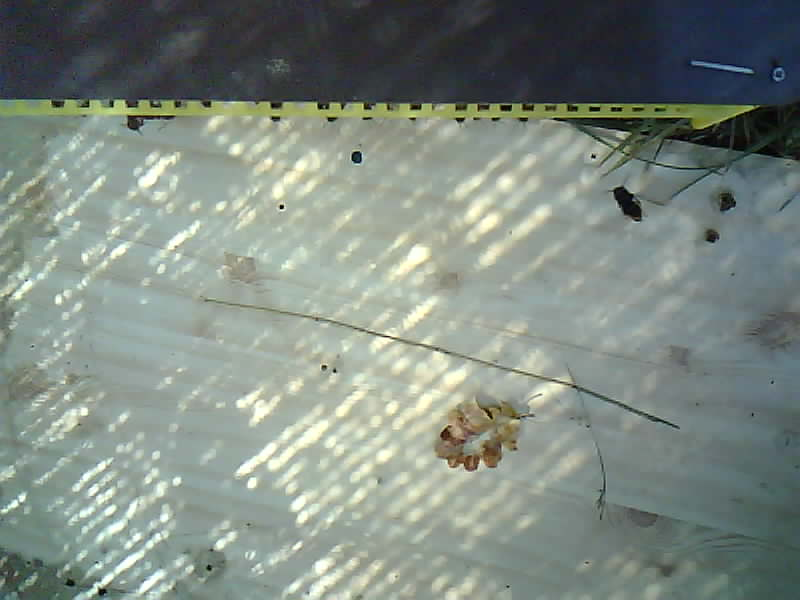hornet: (607, 182, 656, 225)
